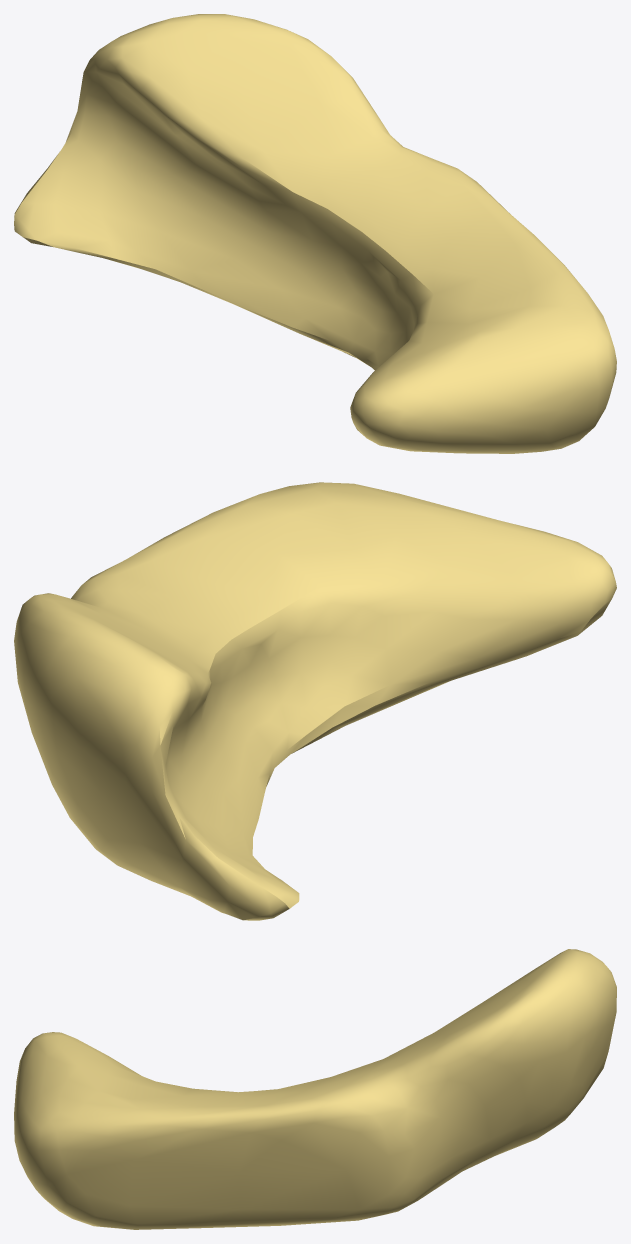
File: fma73047_mm2793m.glb
3 views of the same model, one above another, from view 1: azimuth 30°, elevation 25°; view 2: azimuth 150°, elevation 25°; view 3: azimuth 270°, elevation 25° (orthographic). The views are drawn at different scales.
Parts seen in each view (by area): view 1: FMA73047_MM2793M; view 2: FMA73047_MM2793M; view 3: FMA73047_MM2793M.
Part boxes in pixels (box(x1,y1,x2,y2)): FMA73047_MM2793M: box(14, 14, 616, 453); FMA73047_MM2793M: box(14, 482, 616, 920); FMA73047_MM2793M: box(14, 949, 616, 1229).
Bounding box in the file's own units: 0.00471 × 0.00358 × 0.00895.
